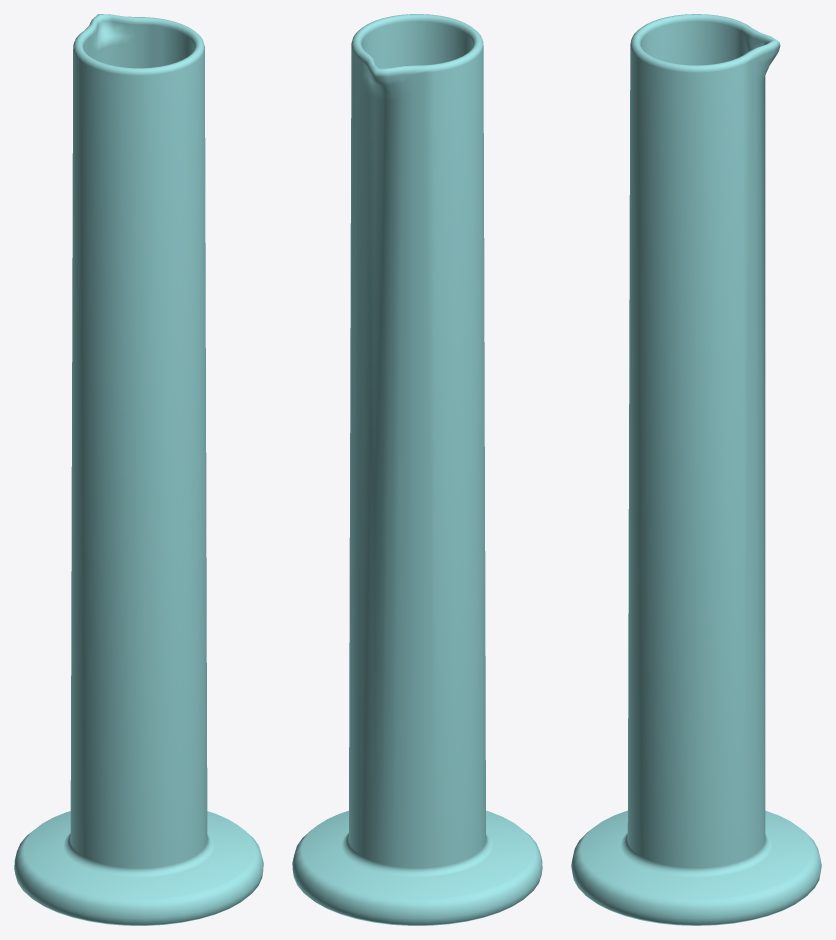
Rendered from Measurement cup.fbx.
The picture shows the model from 3 angles, left to right: view 1: azimuth 30°, elevation 25°; view 2: azimuth 150°, elevation 25°; view 3: azimuth 270°, elevation 25°; orthographic projection.
Visible parts, largest first — view 1: Flask_03; view 2: Flask_03; view 3: Flask_03.
Boxes of the visible parts, x1=… form: Flask_03: x1=14, y1=14, x2=263, y2=925; Flask_03: x1=292, y1=14, x2=542, y2=925; Flask_03: x1=571, y1=14, x2=821, y2=925.
Bounding box in the file's own units: 0.1301 × 0.4785 × 0.1301.
